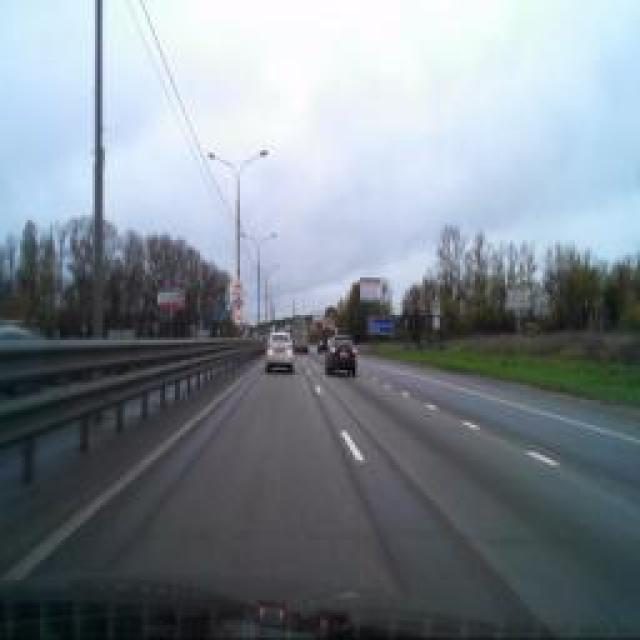sign: (232, 309, 242, 326)
